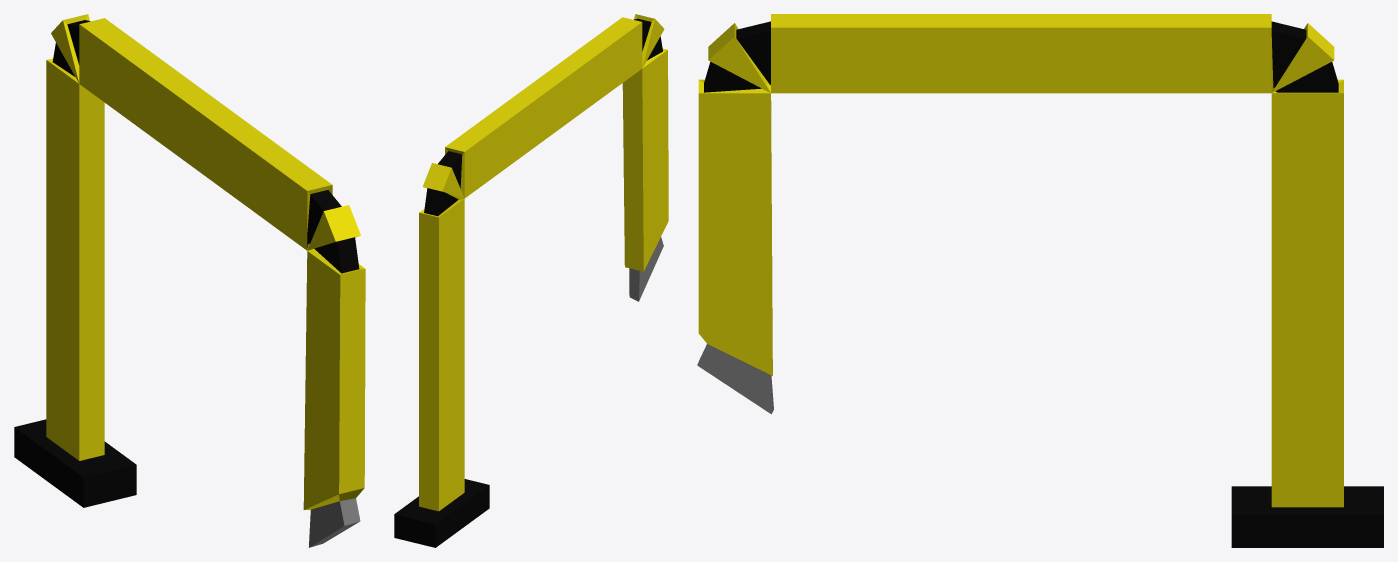
File: Piano_Holder.fbx
3 views of the same model, side by side, from view 1: azimuth 30°, elevation 25°; view 2: azimuth 150°, elevation 25°; view 3: azimuth 270°, elevation 25° (orthographic). The views are drawn at different scales.
Visible parts, largest first — view 1: Cube.065; view 2: Cube.065; view 3: Cube.065.
Boxes of the visible parts, x1,y1,x2,y2 form: Cube.065: [14, 14, 365, 547]; Cube.065: [394, 14, 668, 547]; Cube.065: [697, 14, 1383, 547].
Bounding box in the file's own units: 0.2507 × 2.55 × 2.1.
